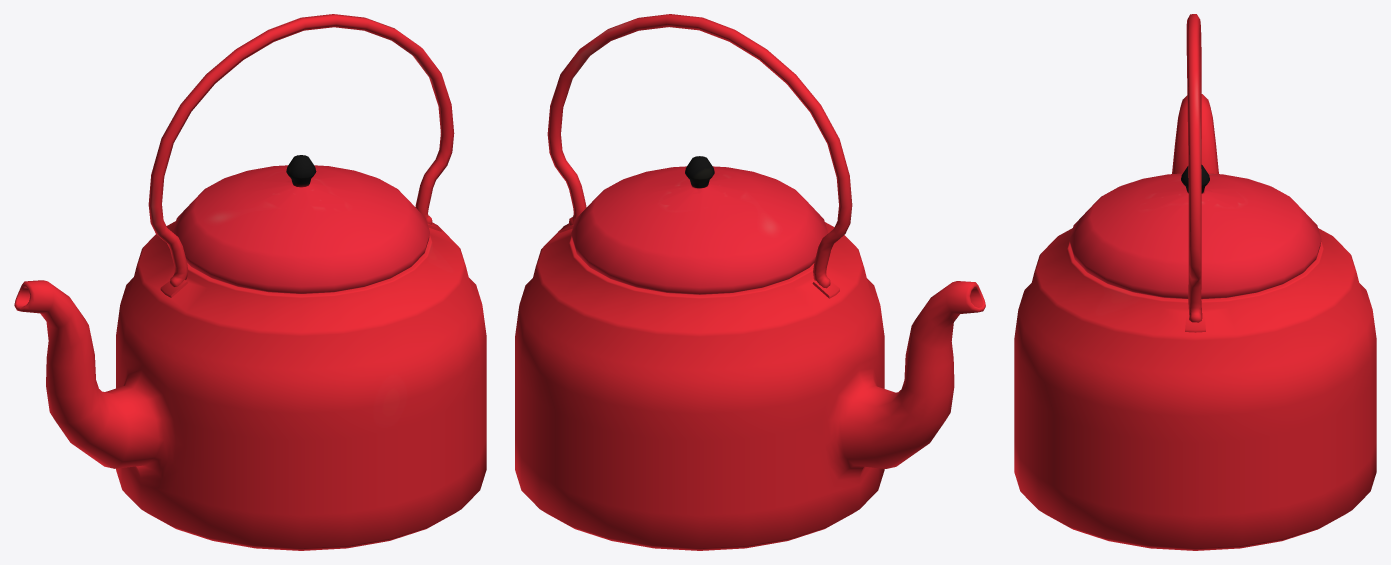
Rendered from kettle.fbx.
3 renders of one model, left to right at view 1: azimuth 30°, elevation 25°; view 2: azimuth 150°, elevation 25°; view 3: azimuth 270°, elevation 25°, orthographic. The views are drawn at different scales.
Visible parts, largest first — view 1: kettle, lid; view 2: kettle, lid; view 3: kettle, lid.
Part boxes in pixels (box(x1,y1,x2,y2)): kettle: box(14, 14, 486, 550); lid: box(172, 155, 429, 293); kettle: box(515, 14, 985, 550); lid: box(571, 156, 828, 294); kettle: box(1014, 14, 1376, 550); lid: box(1069, 164, 1321, 299).
Bounding box in the file's own units: 115 × 113 × 83.06.
